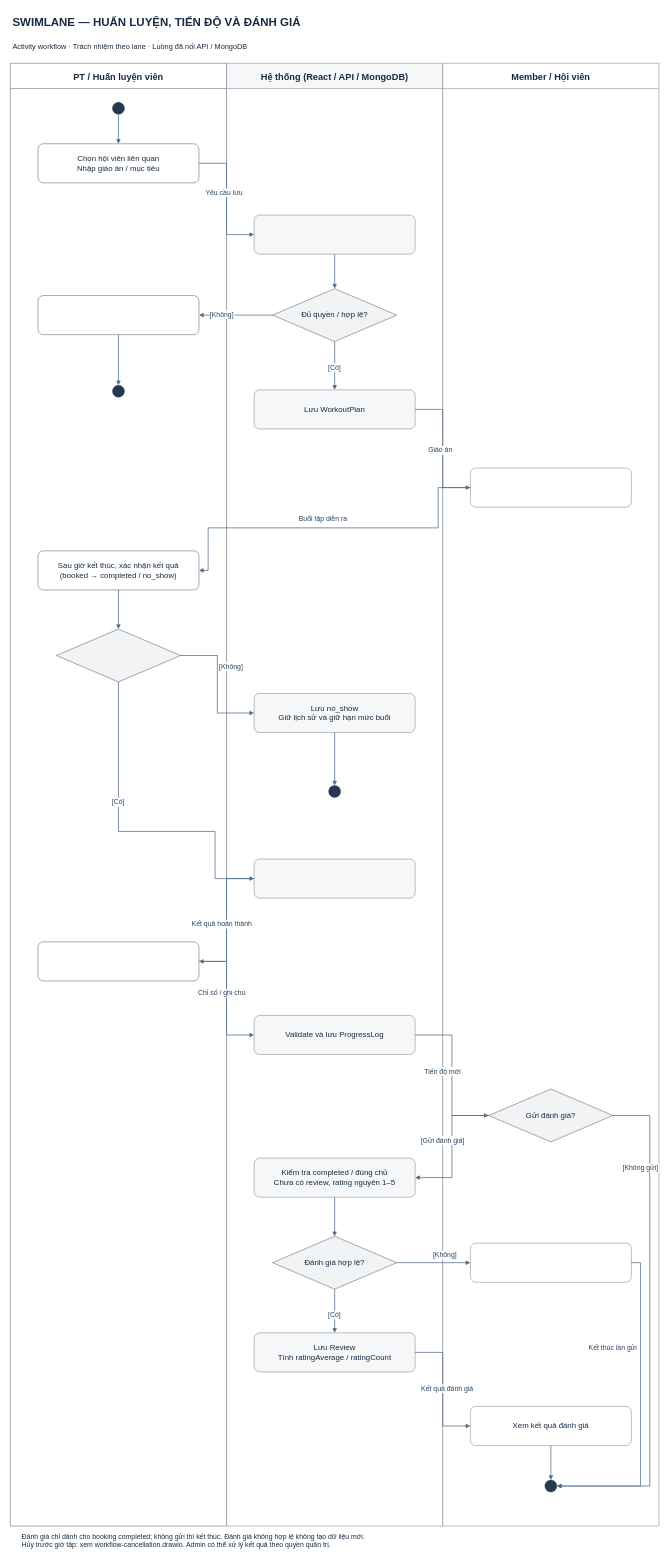
The diagram is 669 pixels wide and 1561 high, and some of its shapes have lost their labels. Here are the shapes that lost their labels. From the top down, the centre of each, then its label:
At point 334,234: "Kiểm tra quan hệ PT – hội viên Validate giáo án / khoảng ngày".
At point 118,315: "Hiển thị lỗi Không lưu dữ liệu".
At point 550,487: "Xem giáo án Tham gia buổi tập đã đặt".
At point 118,655: "Đã tham gia?".
At point 334,878: "Lưu completed Không tính buổi lặp".
At point 118,961: "Nhập chỉ số cơ thể / ghi chú Cập nhật tiến độ".
At point 550,1262: "Hiển thị lỗi đánh giá Không tạo Review".
